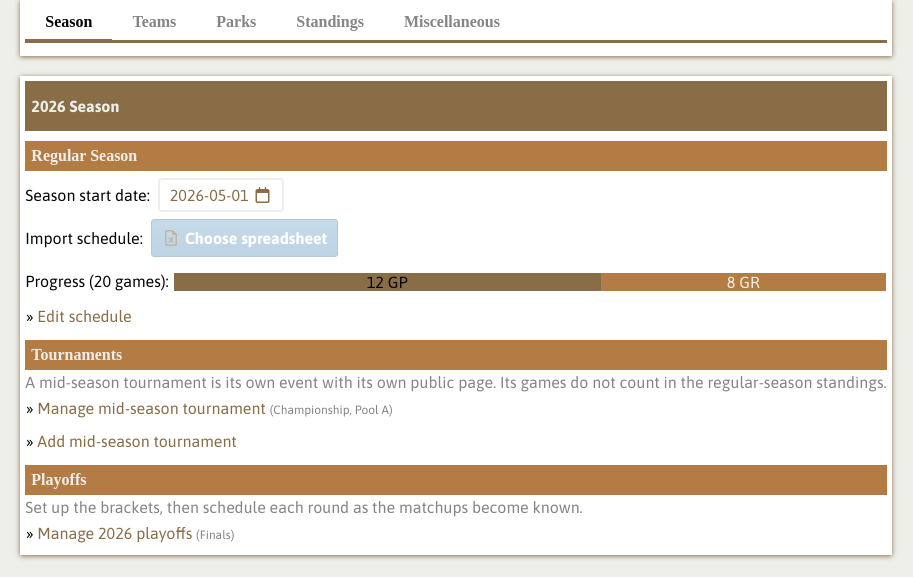
Test: Executive Page › miscellaneous tab holds the deleted games recovery link
The width and height of the screenshot is (913, 577).
Click the button "Miscellaneous" at [452, 24], box [384,5,520,43]
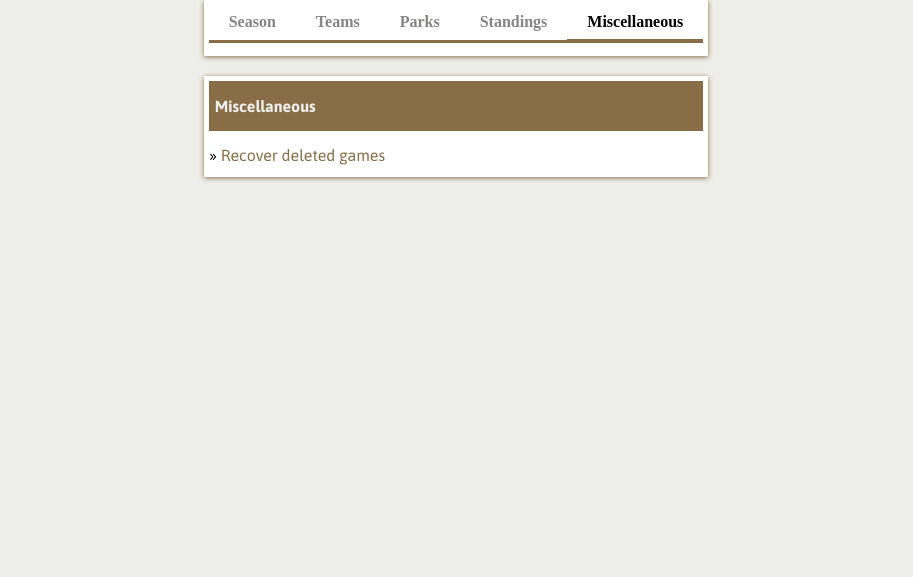
Expected: the link "Recover deleted games" is shown, [221,146,385,164]
